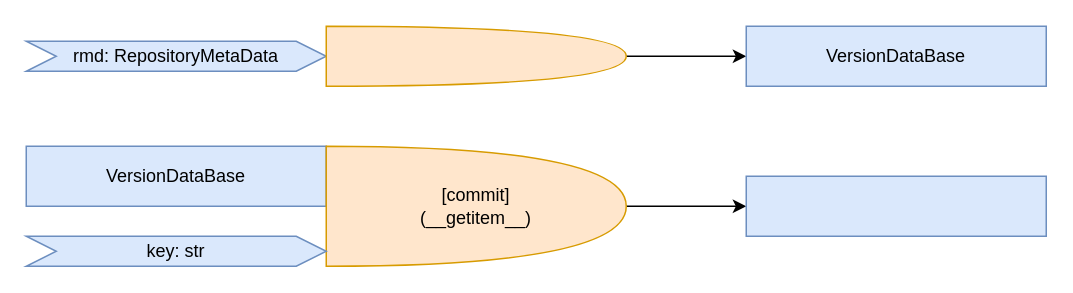
Image size: 1073x293. Some labels were removed from this diagram. The shapes that lost their labels are listed below. From the top down, each one's centre as x and y in pixels, then its label:
At point 475,55: "VersionDataBase() (__init__)".
At point 895,205: "FileDataBase".
